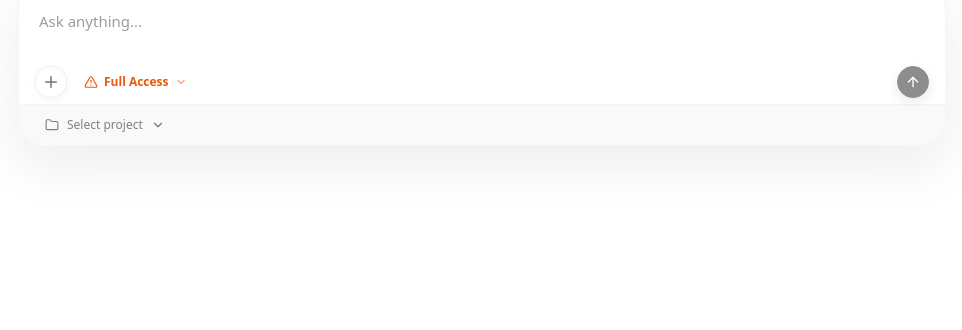
Test: ThreadComposer › uses the web path menu when no native host picker is available
The image size is (962, 330).
Step 1. Press the mouse on the button with aria-label "Choose project" → (105,125), box [35,111,175,139]
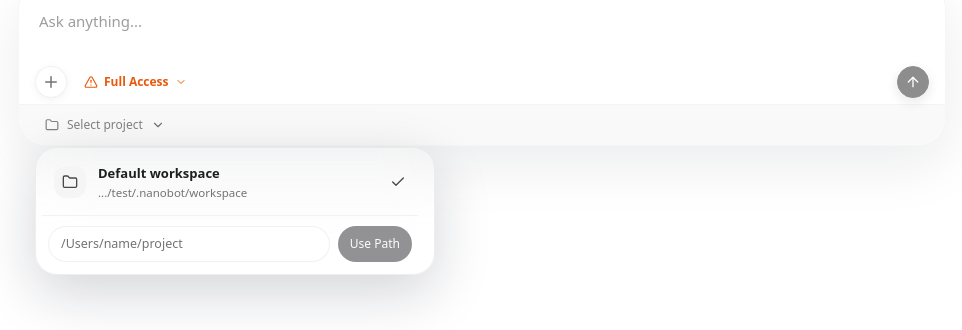
Check: the menu item "Default workspace .../test/.nanobot/workspace" is shown, box [42,154,418,211]
Check: the field named "Paste path" is shown, box [48,226,330,262]
